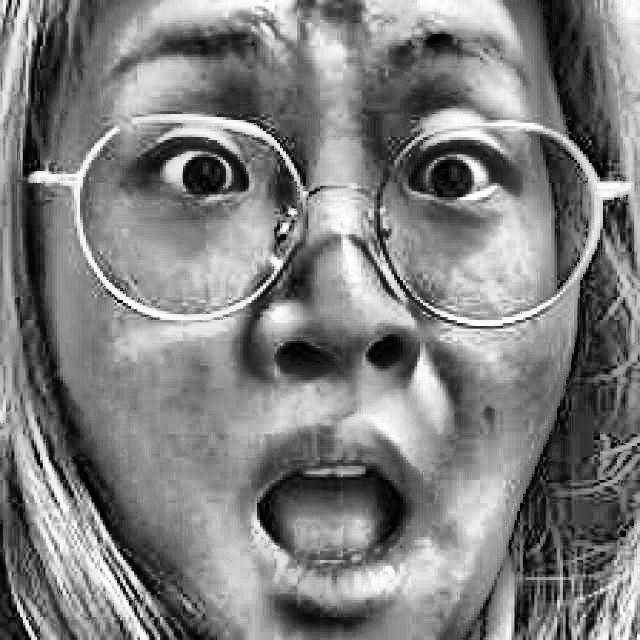fear: (81, 7, 554, 635)
